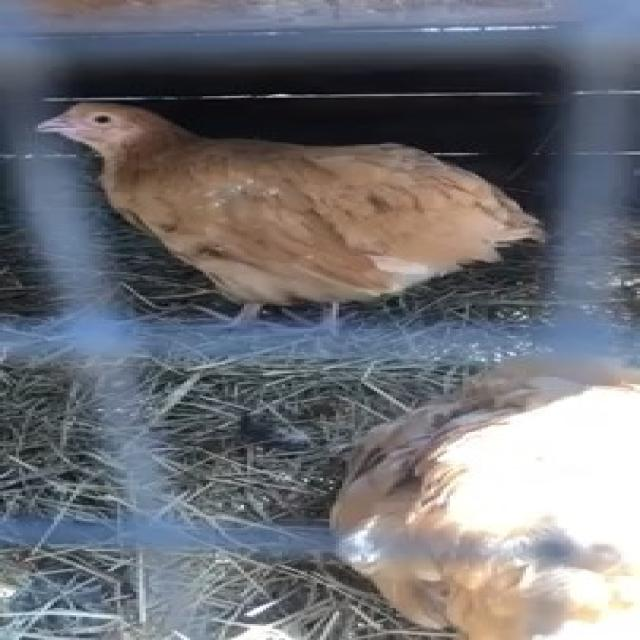Breathing: (32, 98, 548, 334)
